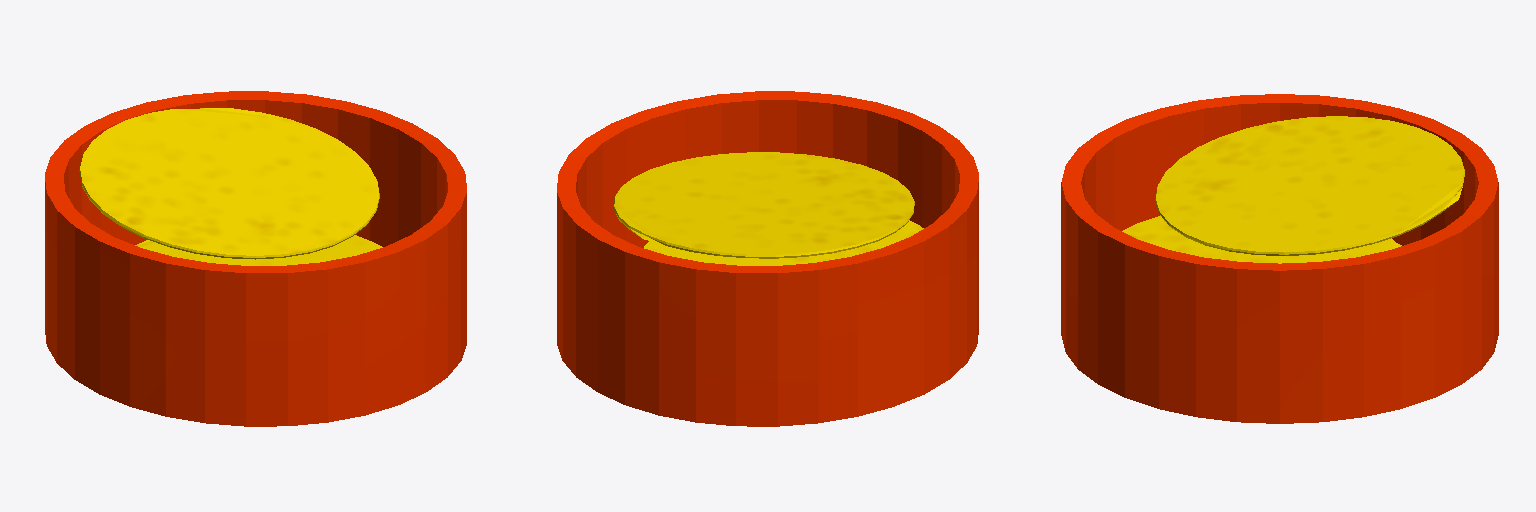
3 views of the same model, side by side, from view 1: azimuth 30°, elevation 25°; view 2: azimuth 150°, elevation 25°; view 3: azimuth 270°, elevation 25° (orthographic).
Visible parts, largest first — view 1: Cylinder.005, Cylinder.009, Cylinder.007; view 2: Cylinder.005, Cylinder.009, Cylinder.007; view 3: Cylinder.005, Cylinder.009, Cylinder.007.
Part boxes in pixels (x1,y1,x2,y2): Cylinder.005: (45, 91, 466, 426); Cylinder.009: (79, 108, 379, 259); Cylinder.007: (135, 235, 382, 265); Cylinder.005: (557, 91, 978, 426); Cylinder.009: (614, 152, 914, 258); Cylinder.007: (644, 220, 923, 265); Cylinder.005: (1061, 94, 1498, 423); Cylinder.009: (1155, 116, 1464, 255); Cylinder.007: (1122, 216, 1401, 263).
Size of the model in its own units: 2.33 by 0.9771 by 2.43.
Materials: 2 (2 with a texture image).